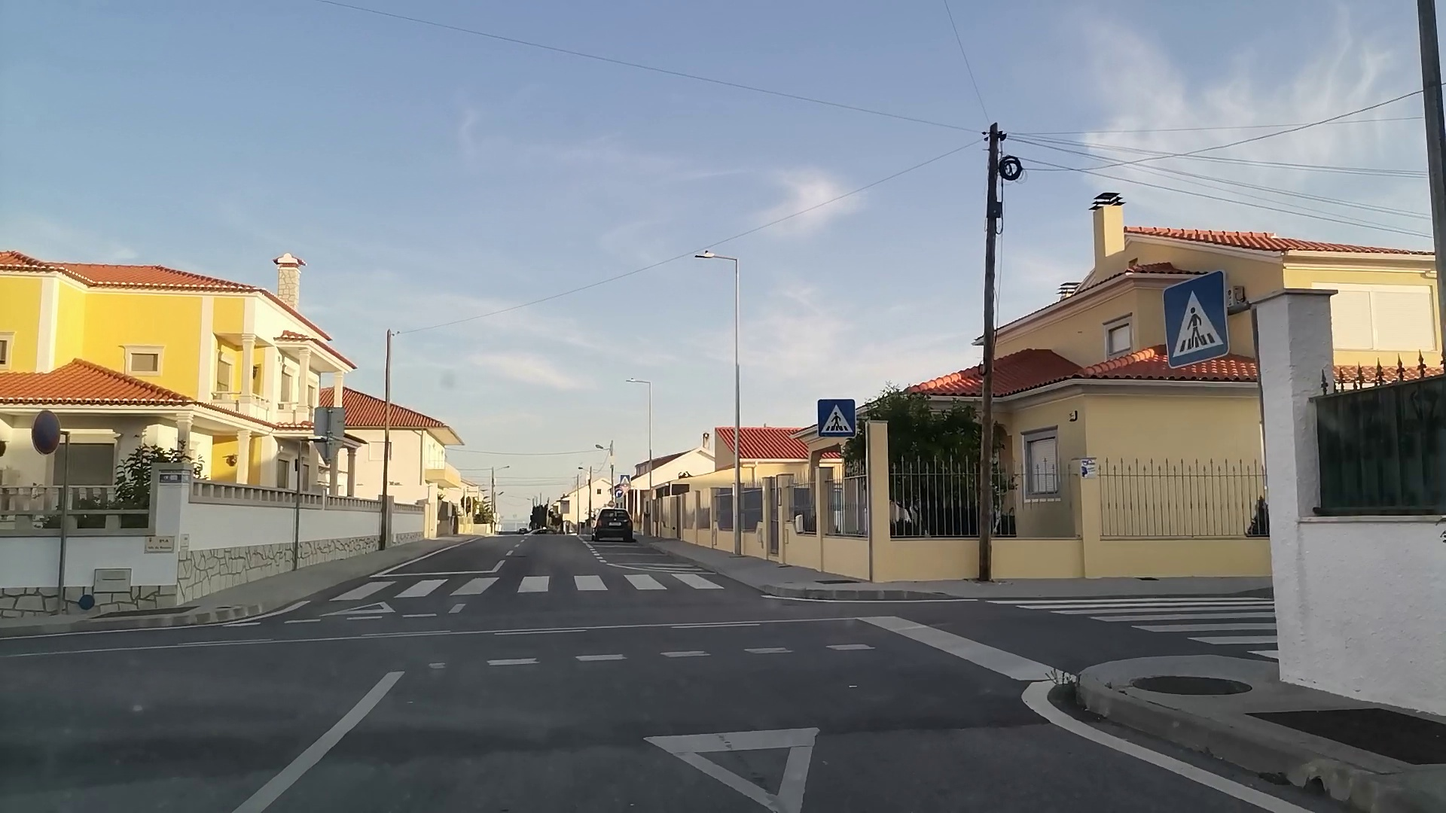Stairs: (990, 597, 1275, 655), (330, 570, 727, 601)
